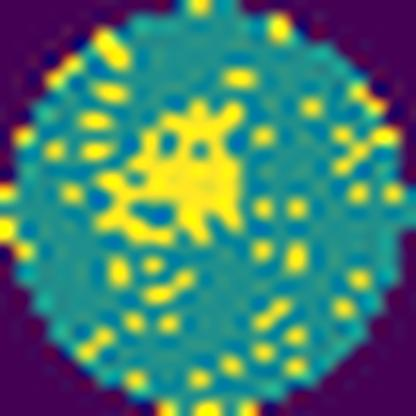Center: (98, 100, 248, 248)
